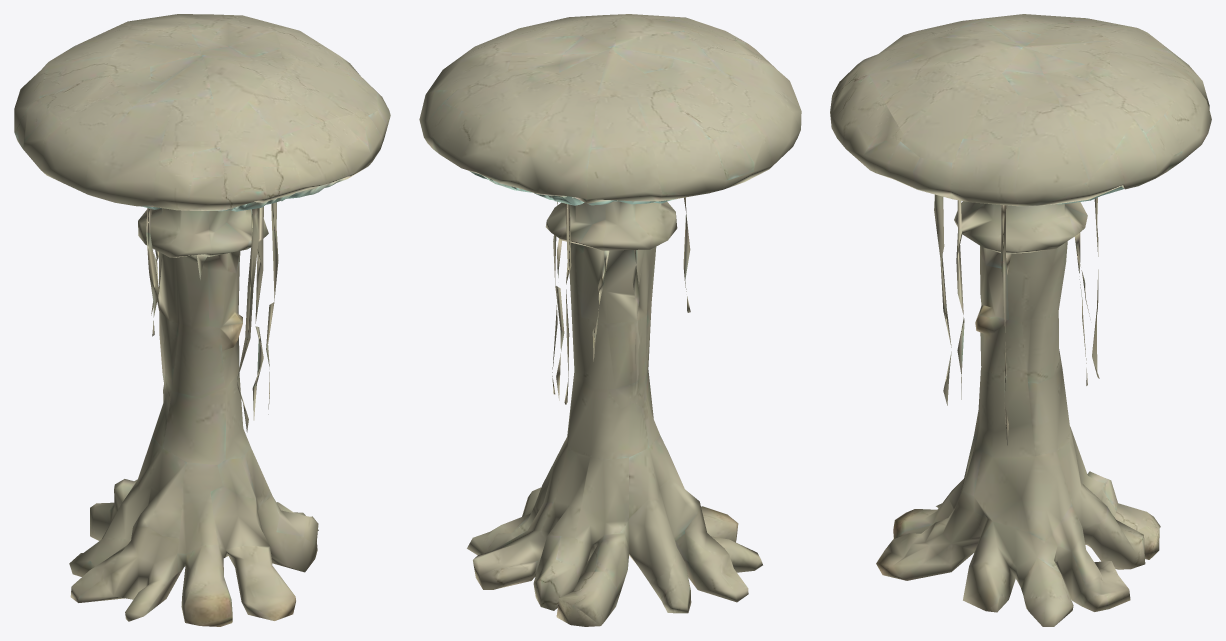
The model's file is giant-mushroom.glb.
The picture shows the model from 3 angles, left to right: view 1: azimuth 30°, elevation 25°; view 2: azimuth 150°, elevation 25°; view 3: azimuth 270°, elevation 25°; orthographic projection.
Size of the model in its own units: 1.24 by 1.89 by 1.26.
Materials: 1 (1 with a texture image).
